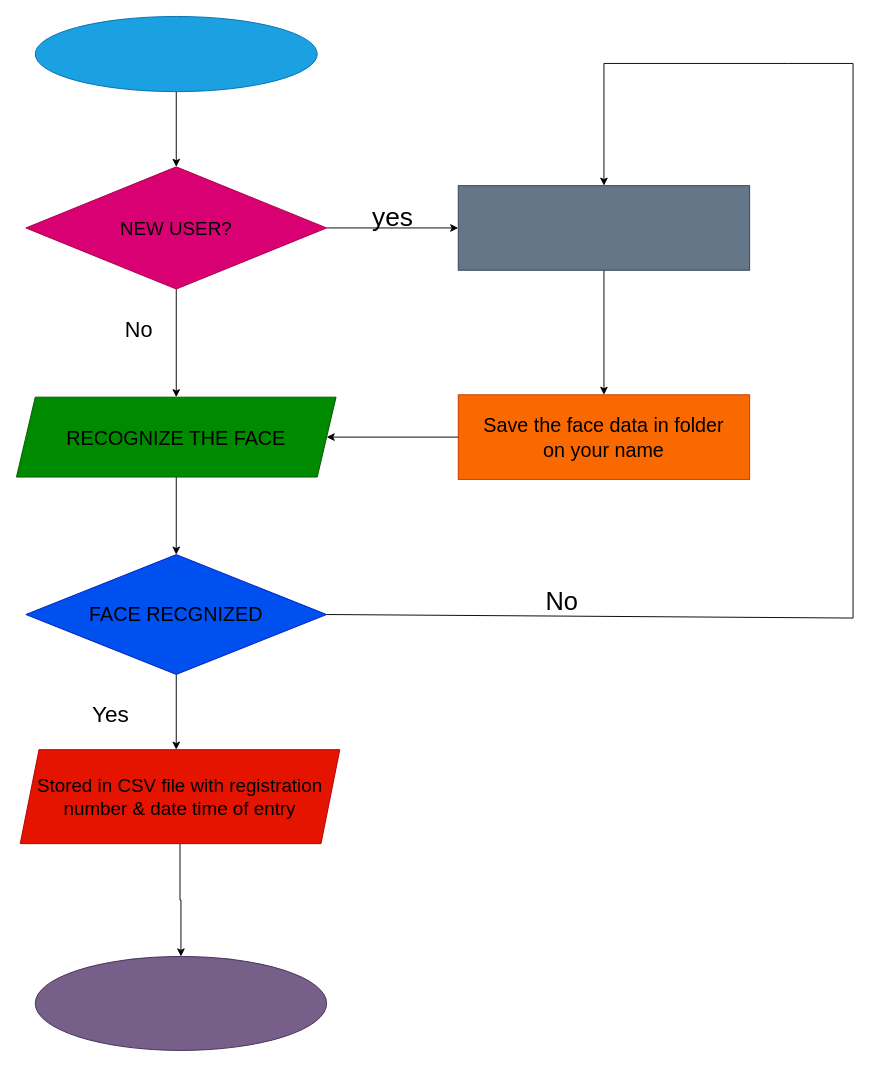
Some shapes in this 877 by 1067 pixel diagram are drawn without their labels. The shapes that lost their labels are listed below. From the top down, each one's centre as x and y in pixels, then its label:
point 175,54: START
point 603,227: Give your photograph
point 180,1003: END
